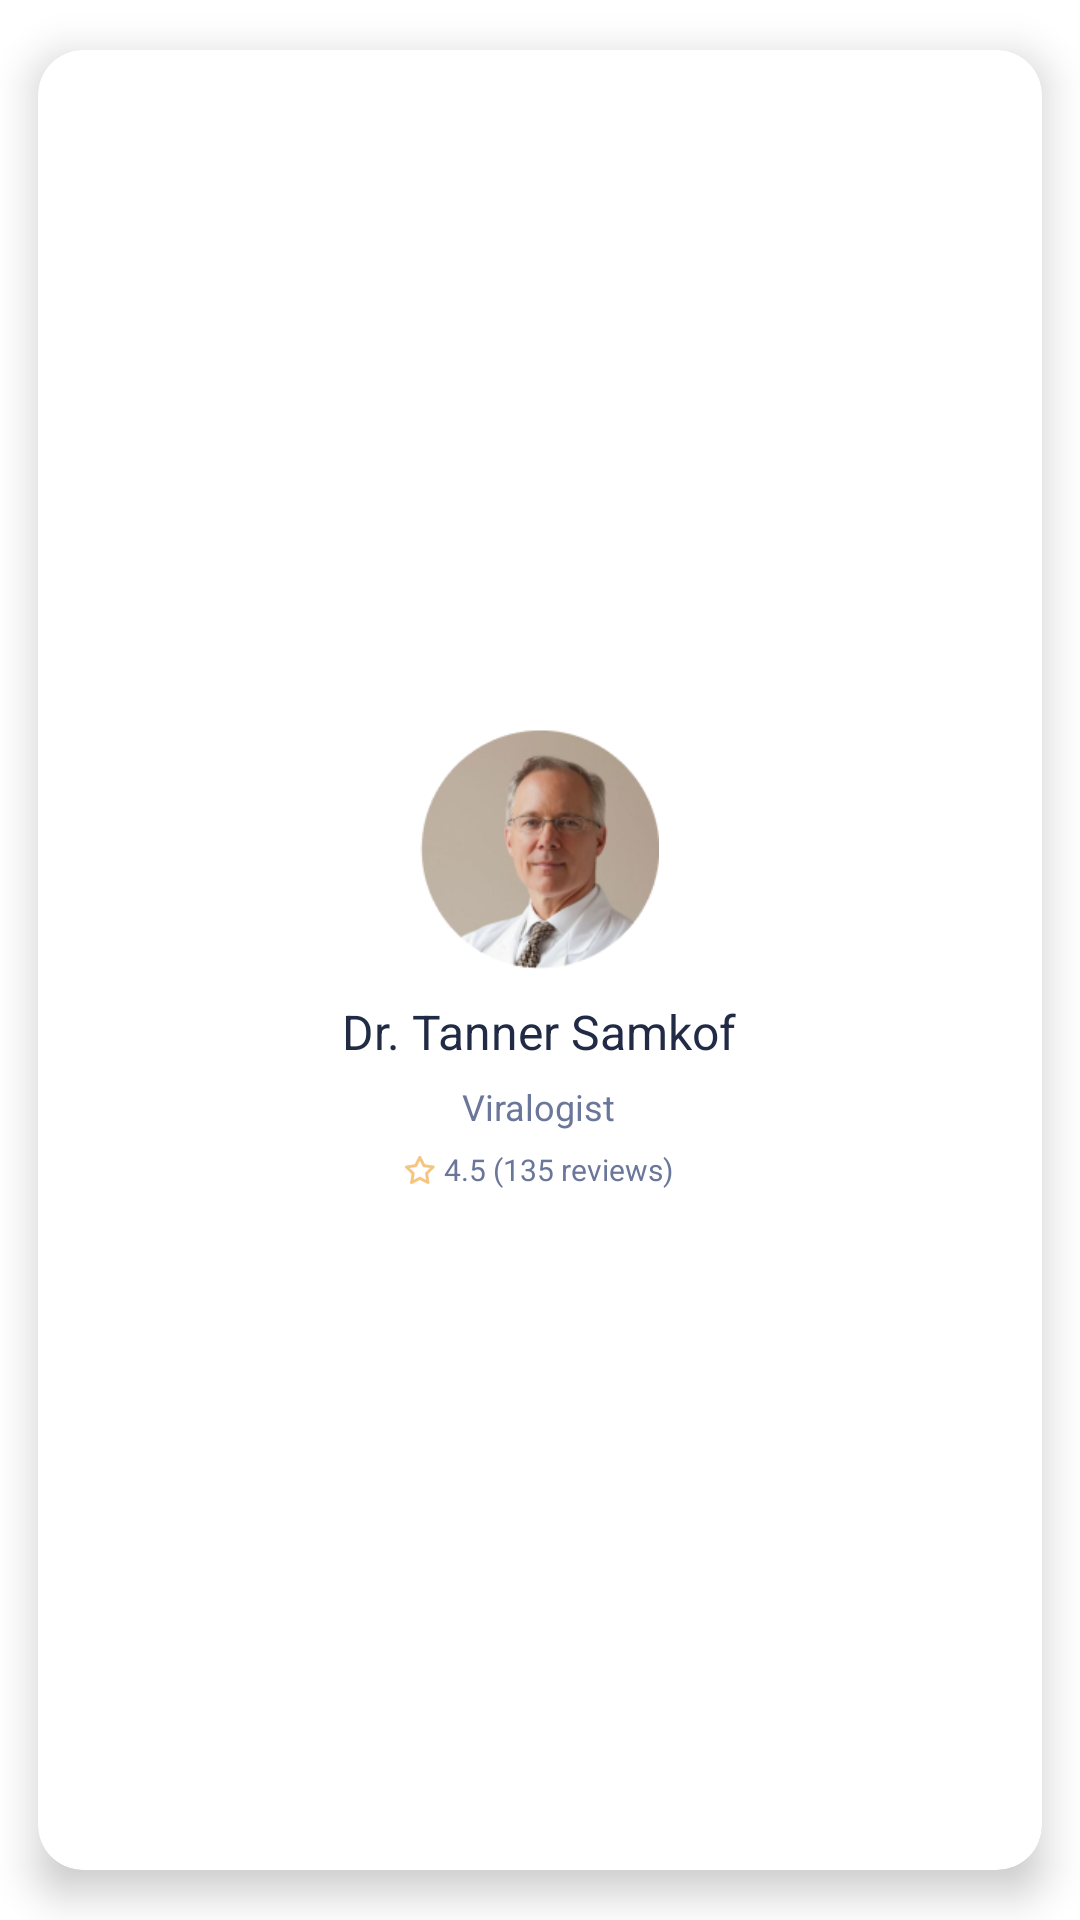

Icon bounding boxes for this 1080w x 1920h phone screenshot, format (x1, y1, x2, y2):
star: (405, 1156, 435, 1184)
